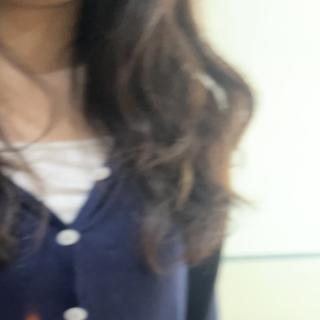fire: (13, 311, 54, 320)
